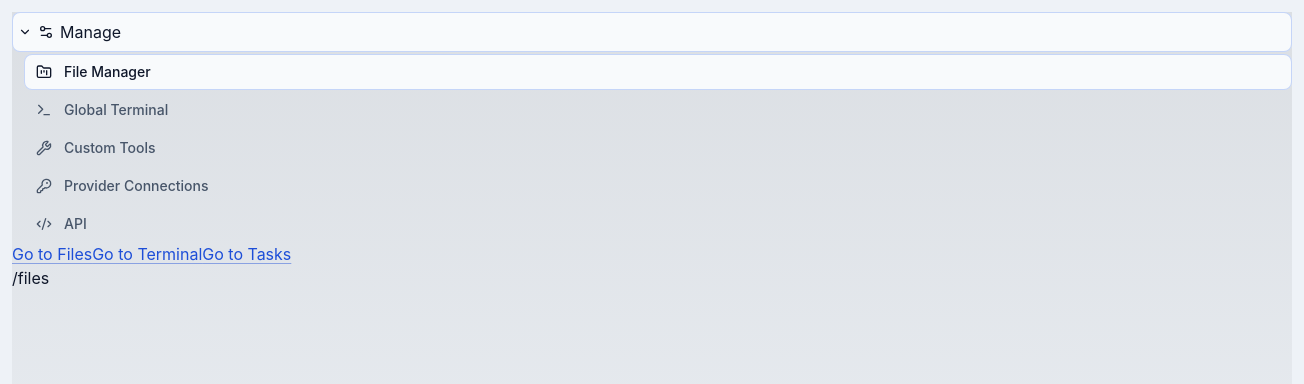
ManageSidebarSection › auto-collapses when navigating away to a non-Manage page
Expected: the link "File Manager" is shown, [24,54,1292,90]
What coordinates should you click on to do the following:
click the link "Go to Tasks"
I would click on:
 (247, 254)
Its box is [202,244,291,264].
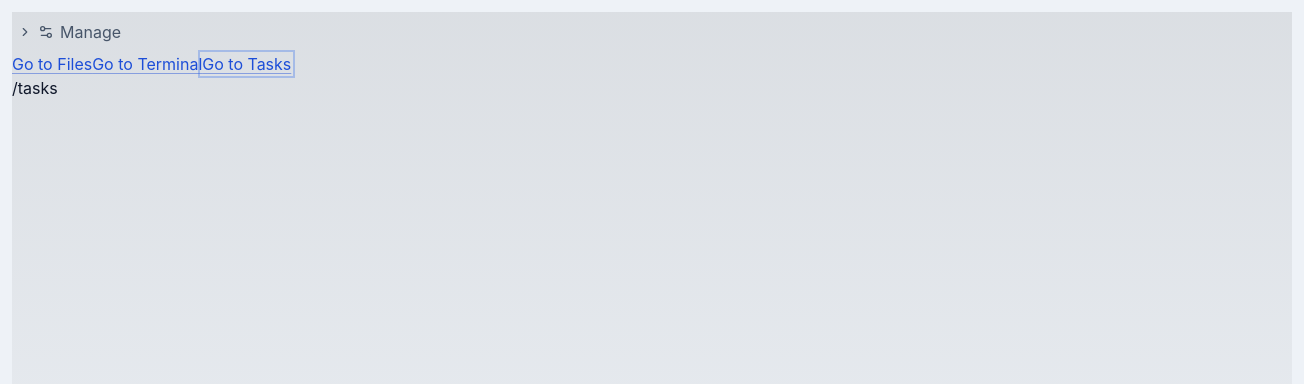
Expected: the button with aria-label "Expand Manage" is shown, [12,12,1292,52]
Expected: the link "File Manager" is gone
